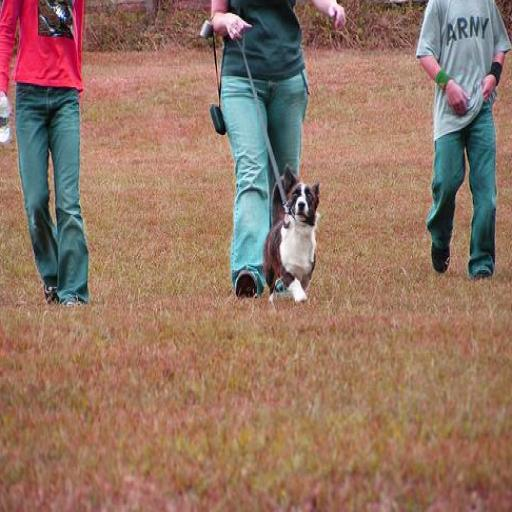dog_face: (278, 165, 331, 230)
